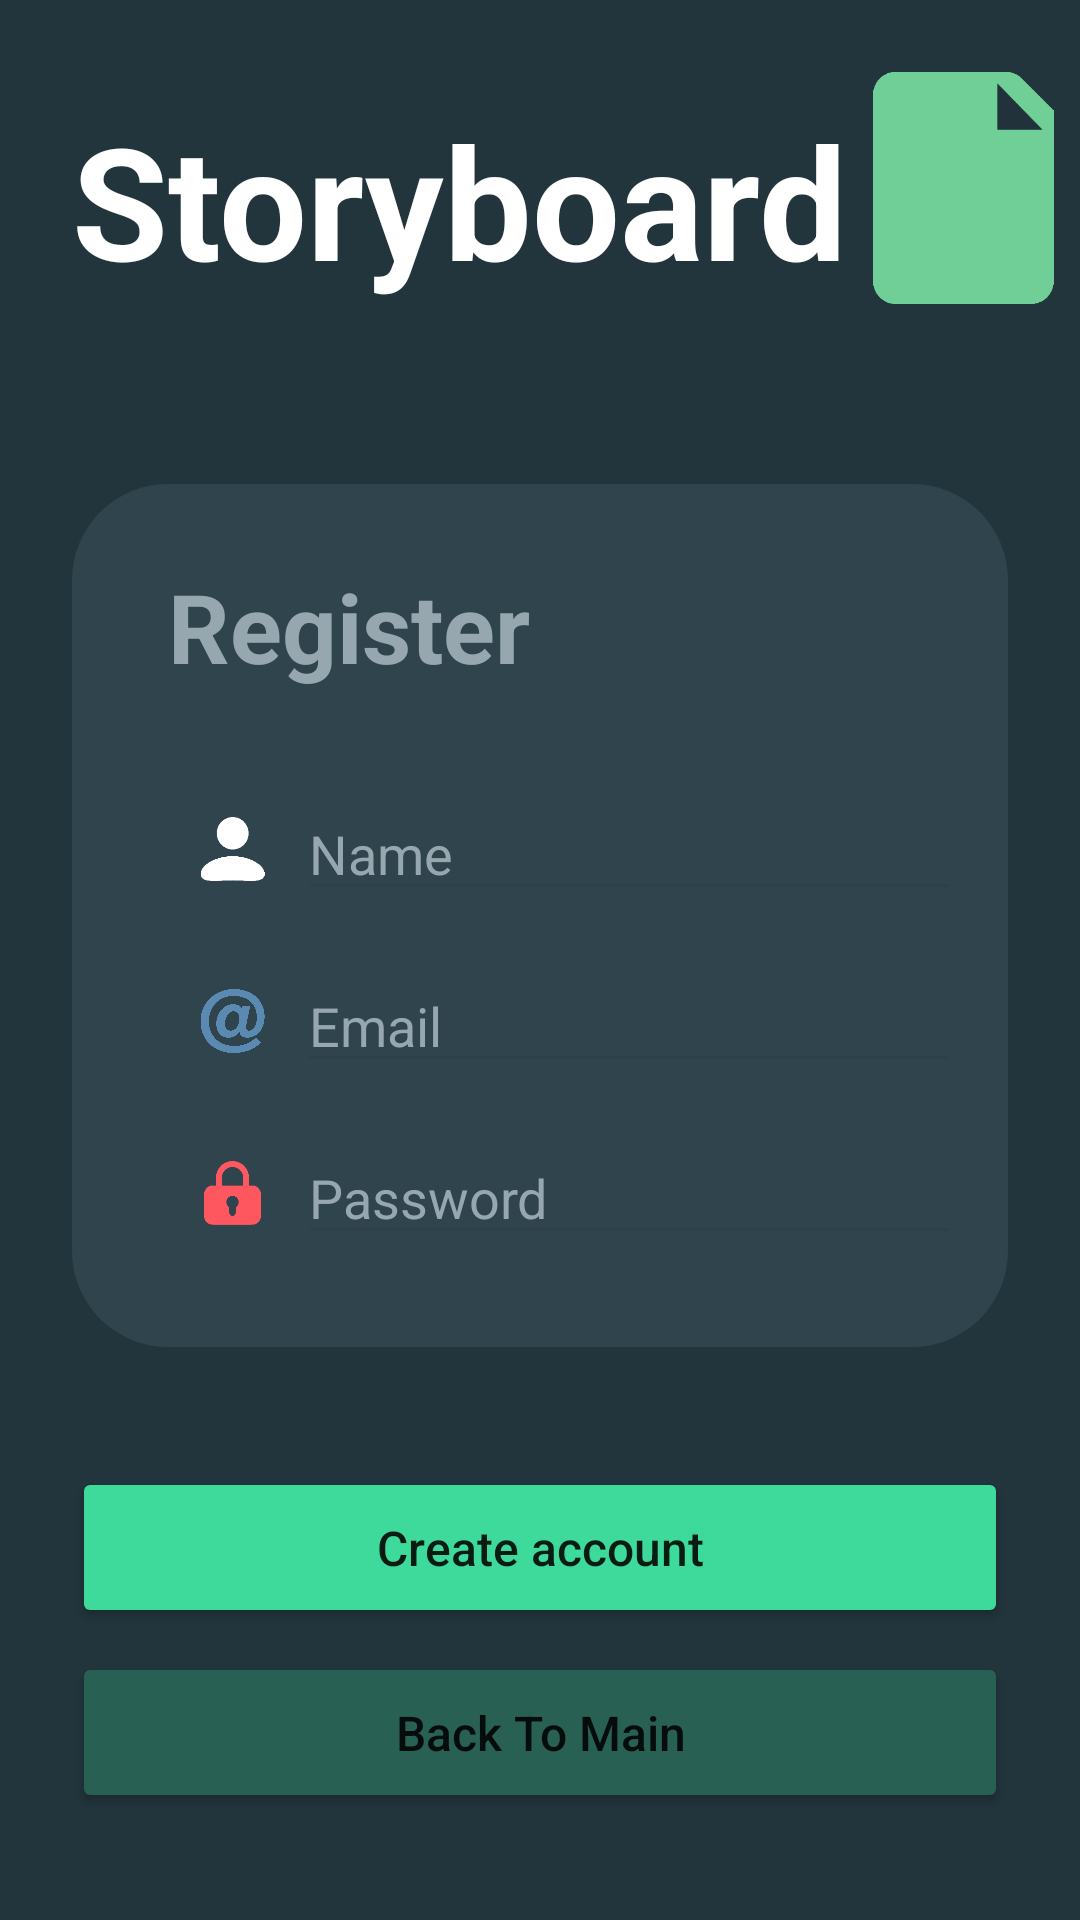

Named icons in this screenshot (1080×1920) and their centers, (x=x, y=y):
lock: (x=232, y=1193)
person: (x=233, y=849)
